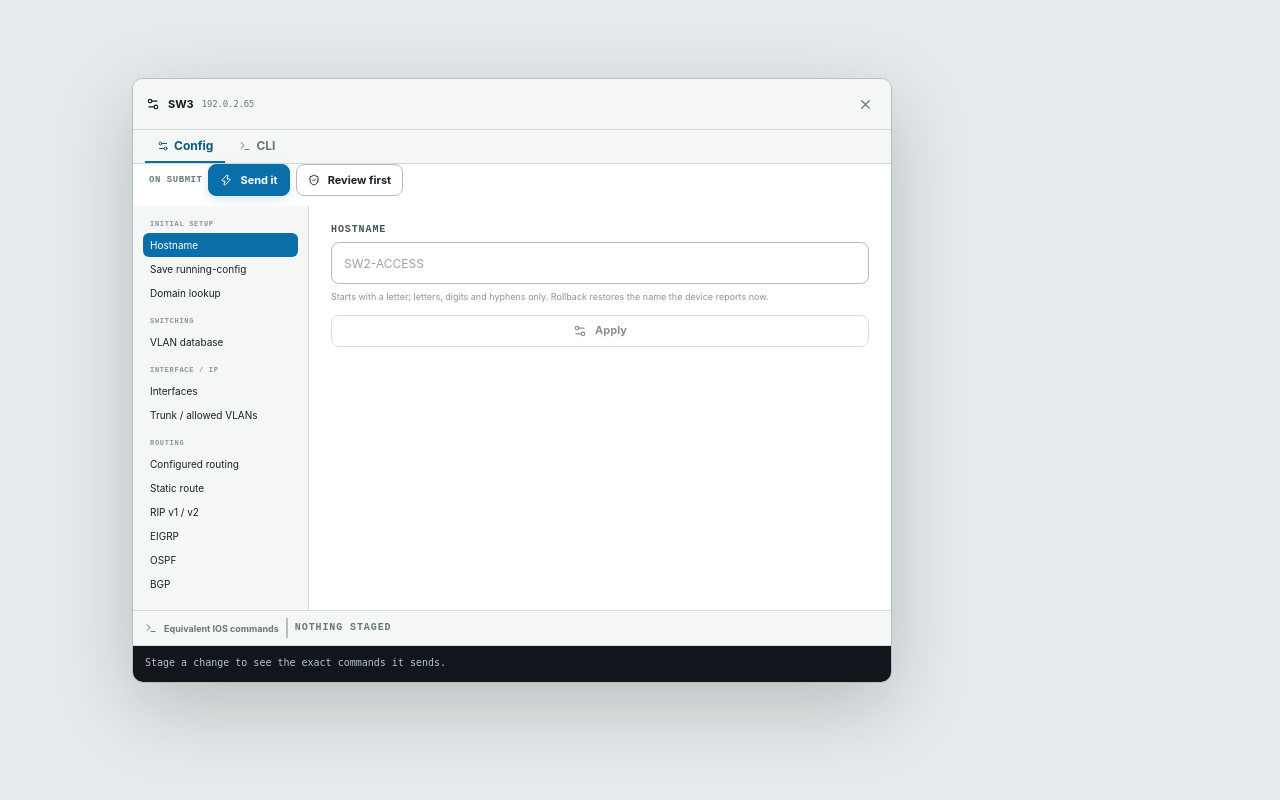
Test: Packet Tracer-style device config window › warns that the allowed list replaces rather than adds
This screenshot has width=1280, height=800.
Click the button "Trunk / allowed VLANs" at {"x": 220, "y": 415}, box [143, 403, 298, 427]
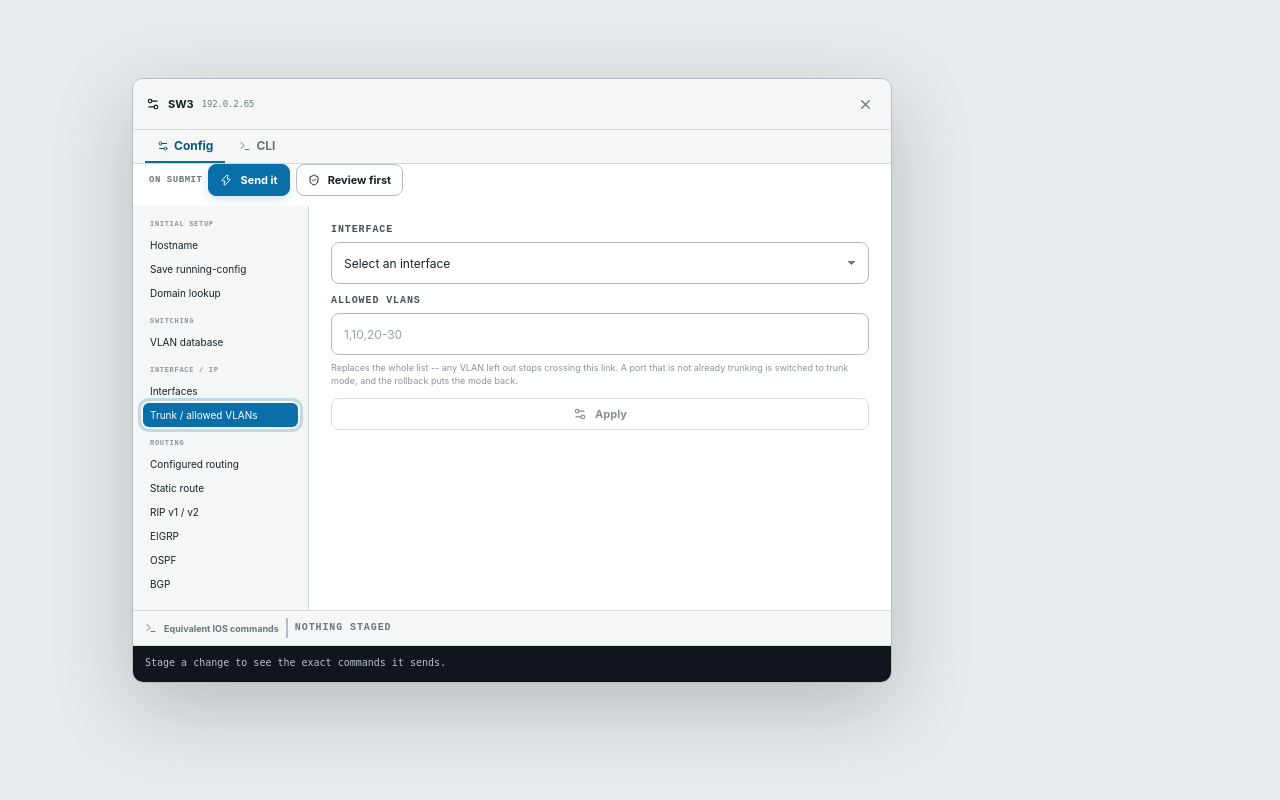
Expected: the text "Replaces the whole list" is shown, [331, 362, 848, 386]
